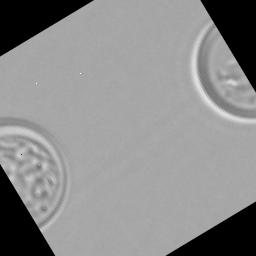picoshell: (0, 117, 68, 232), (189, 20, 256, 123)
